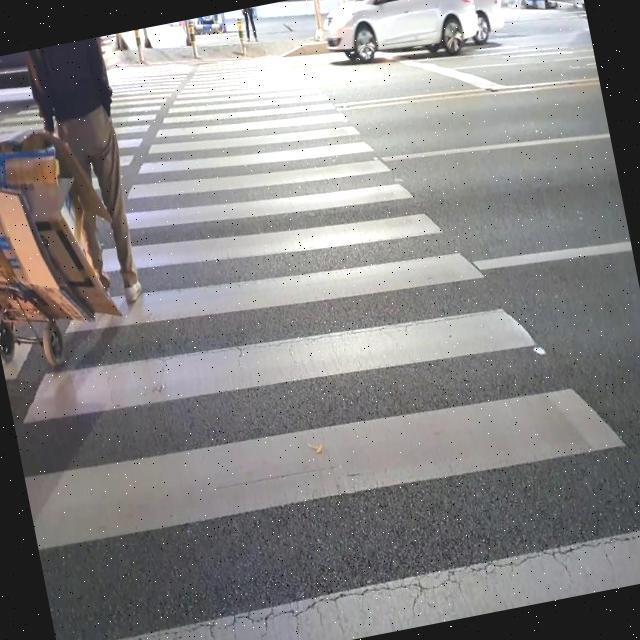crosswalk: (0, 54, 640, 640)
